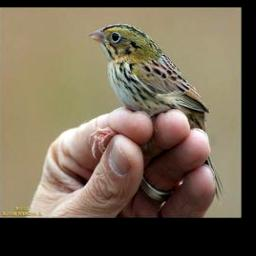Sparrow: (88, 23, 229, 206)
